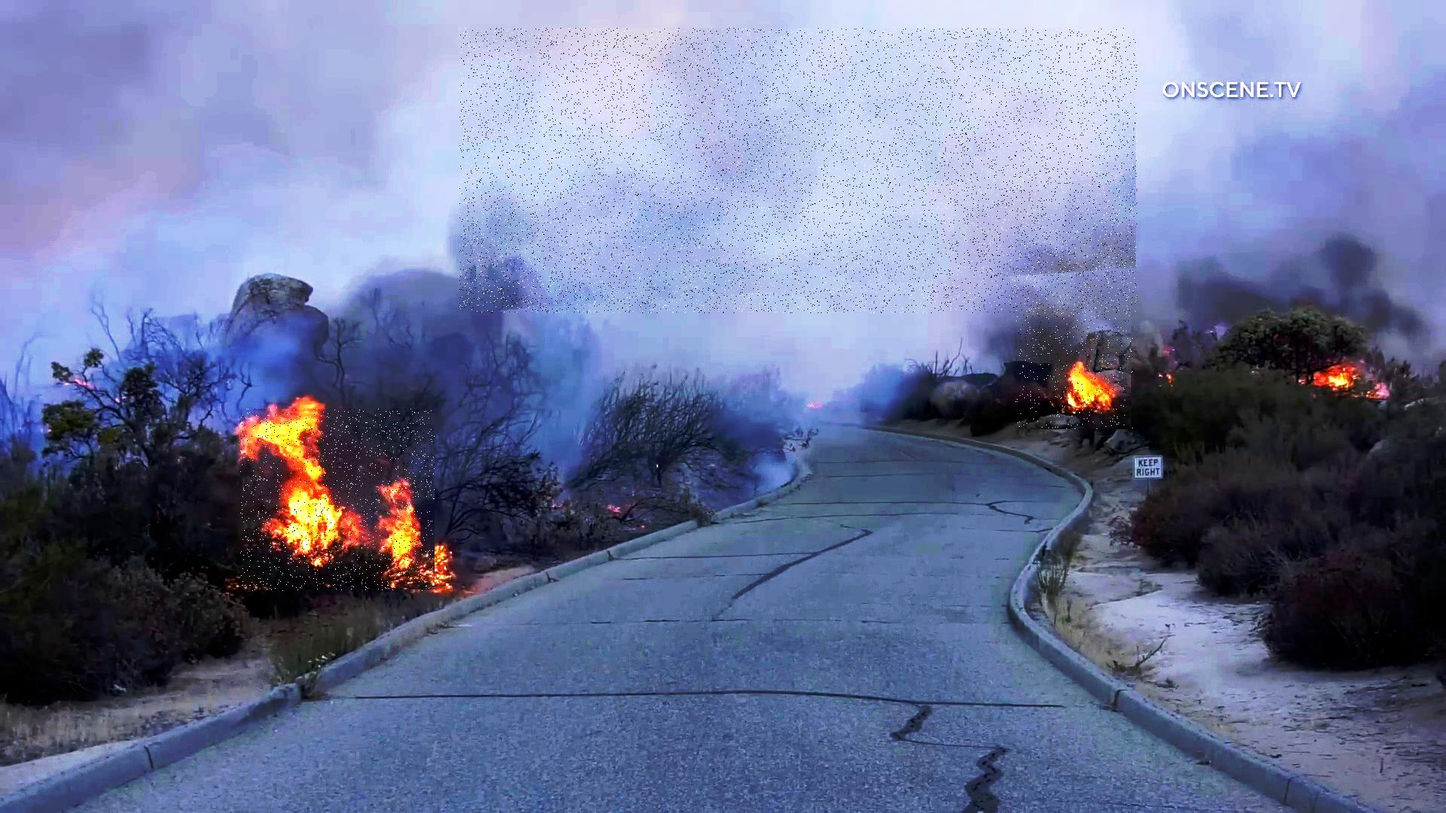fire: (240, 409, 435, 592), (1015, 296, 1133, 429)
smoke: (460, 28, 1138, 314)
